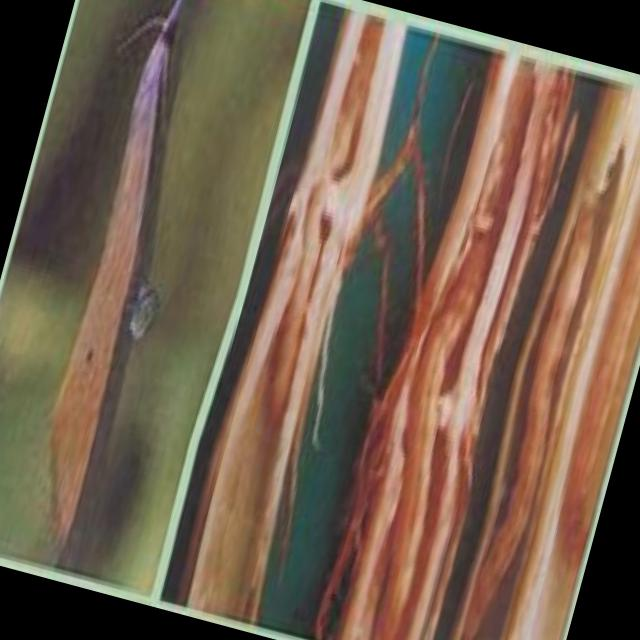stem-borer: (5, 0, 221, 572)
